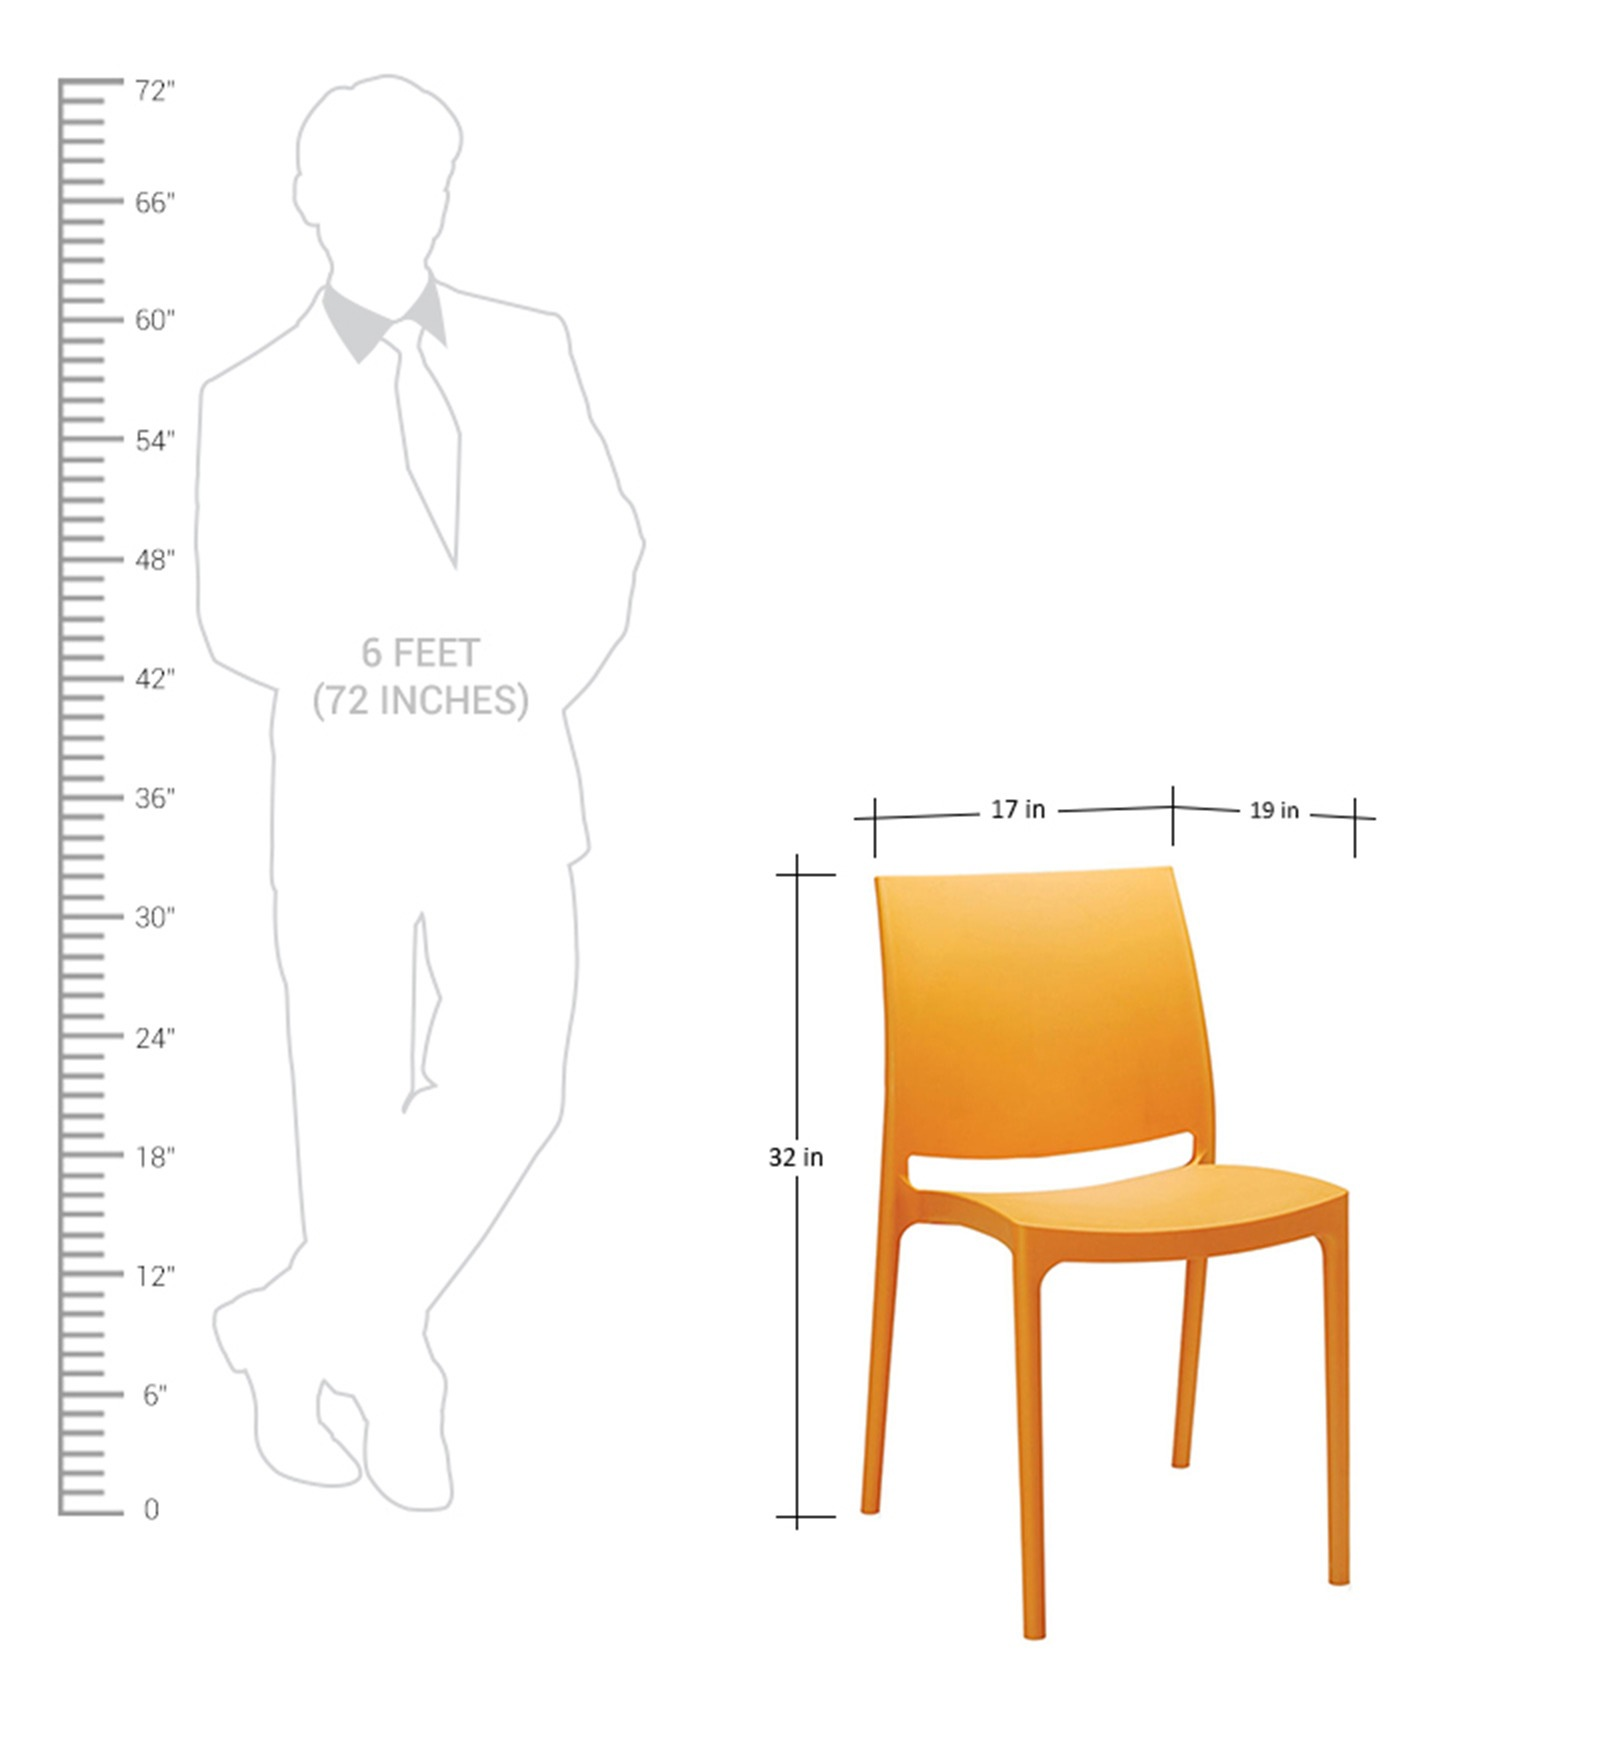Novella Chair in Orange Colour by Nilkamal: (861, 863, 1385, 1640)
